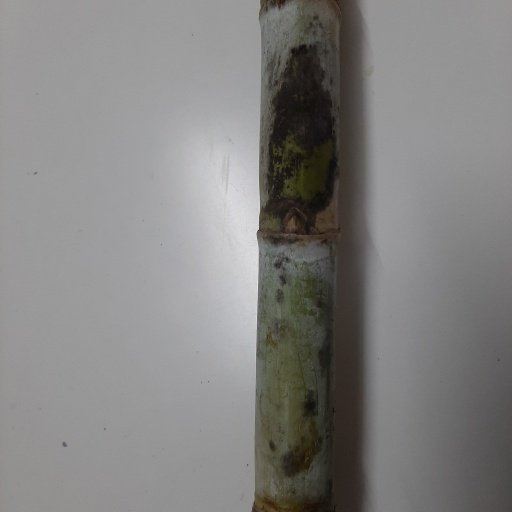Bud: (284, 208, 305, 234)
